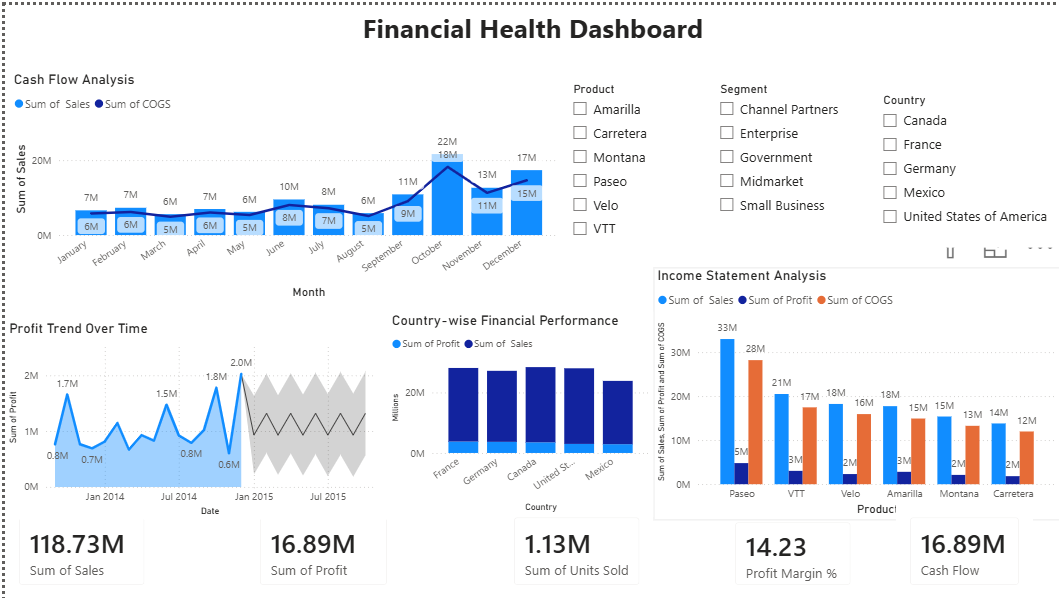

Layout of this report page (visuals, bound fields, positions):
{"tool":"powerbi","page":{"name":"Page 1","canvas":[1280,720],"ordinal":0},"visuals":[{"type":"cardVisual","fields":{"Data":["Sum(financials. Sales)"]},"box":[0,603.8,186.8,116.2],"z":0},{"type":"cardVisual","fields":{"Data":["Sum(financials.Profit)"]},"box":[292,604,188,116],"z":1},{"type":"cardVisual","fields":{"Data":["Sum(financials.Units Sold)"]},"box":[600,604,186,116],"z":2},{"type":"cardVisual","fields":{"Data":["financials.Profit Margin %"]},"box":[868,610,174,110],"z":3},{"type":"clusteredColumnChart","title":"Income Statement Analysis","fields":{"Category":["financials.Product"],"Y":["Sum(financials. Sales)","Sum(financials.Profit)","Sum(financials.COGS)"]},"box":[786,318,494,306],"z":4},{"type":"lineChart","title":"Profit Trend Over Time","fields":{"Y":["Sum(financials.Profit)"],"Category":["financials.Date"]},"box":[0,382,464,242],"z":5},{"type":"cardVisual","fields":{"Data":["financials.Cash Flow"]},"box":[1080,604,166,116],"z":6},{"type":"lineStackedColumnComboChart","title":"Cash Flow Analysis","fields":{"Y":["Sum(financials. Sales)"],"Y2":["Sum(financials.COGS)"],"Category":["financials.Date.Variation.Date Hierarchy.Month"]},"box":[6,80,670,280],"z":7},{"type":"columnChart","title":"Country-wise Financial Performance","fields":{"Y":["Sum(financials.Profit)","Sum(financials. Sales)"],"Category":["financials.Country"]},"box":[464,372,322,248],"z":8},{"type":"slicer","fields":{"Values":["financials.Country"]},"box":[1052,102,228,192],"z":9},{"type":"slicer","fields":{"Values":["financials.Product"]},"box":[676,88,160,208],"z":10},{"type":"slicer","fields":{"Values":["financials.Segment"]},"box":[854,88,188,186],"z":11},{"type":"textbox","box":[0,0,1280,56],"z":12}]}

Visuals, with their boxes in screenshot pixels (x1, y1, x2, y2), scaled from the page's 1280x720 canvas onto the 1059x598 screenshot:
cardVisual - Sum(financials. Sales): (0,501,155,597)
cardVisual - Sum(financials.Profit): (242,502,397,597)
cardVisual - Sum(financials.Units Sold): (496,502,650,597)
cardVisual - financials.Profit Margin %: (718,507,862,597)
"Income Statement Analysis" clusteredColumnChart: (650,264,1058,518)
"Profit Trend Over Time" lineChart: (0,317,384,518)
cardVisual - financials.Cash Flow: (894,502,1031,597)
"Cash Flow Analysis" lineStackedColumnComboChart: (5,66,559,299)
"Country-wise Financial Performance" columnChart: (384,309,650,515)
slicer - financials.Country: (870,85,1058,244)
slicer - financials.Product: (559,73,692,246)
slicer - financials.Segment: (707,73,862,228)
textbox: (0,0,1058,47)
